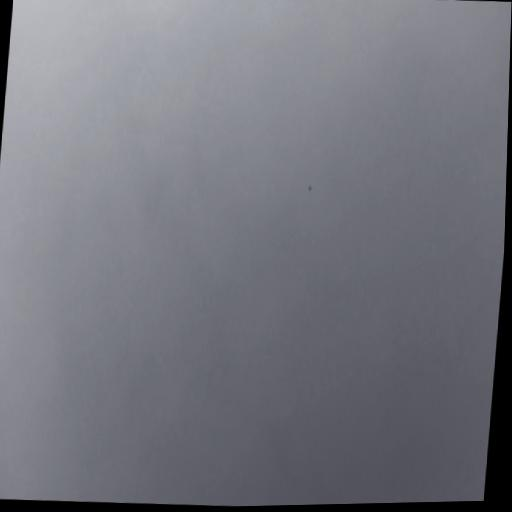drones: (307, 184, 312, 194)
